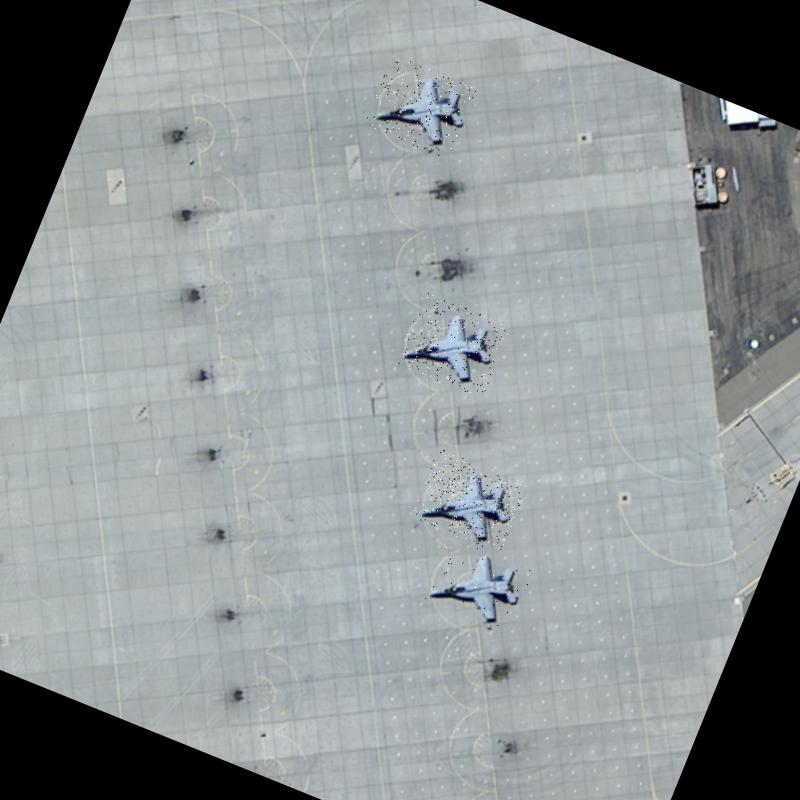A16: (394, 290, 511, 398), (410, 447, 528, 554), (416, 532, 536, 634), (364, 54, 477, 159)
